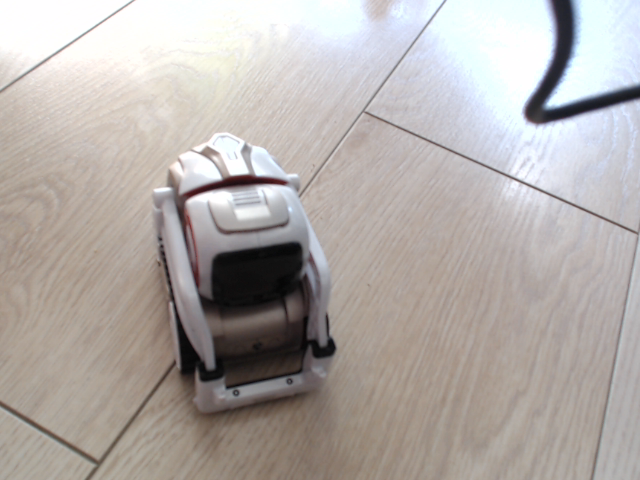cozmo: (148, 131, 343, 417)
